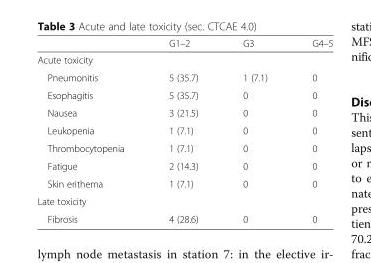table: (36, 37, 332, 224)
table column: (36, 37, 145, 224), (145, 37, 219, 224), (219, 37, 289, 224), (289, 37, 332, 224)
table column header: (36, 37, 332, 51)
table projected row header: (36, 51, 332, 68), (36, 192, 332, 209)
table row: (36, 85, 332, 103), (36, 103, 332, 121), (36, 121, 332, 139), (36, 156, 332, 174), (36, 174, 332, 192), (36, 51, 332, 68), (36, 68, 332, 85), (36, 139, 332, 156), (36, 192, 332, 209), (36, 209, 332, 224), (36, 37, 332, 51)
